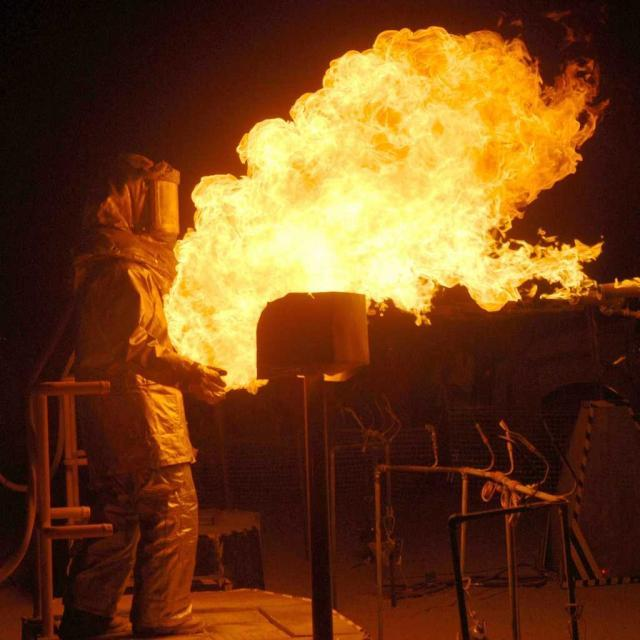Fire: (175, 34, 603, 358)
